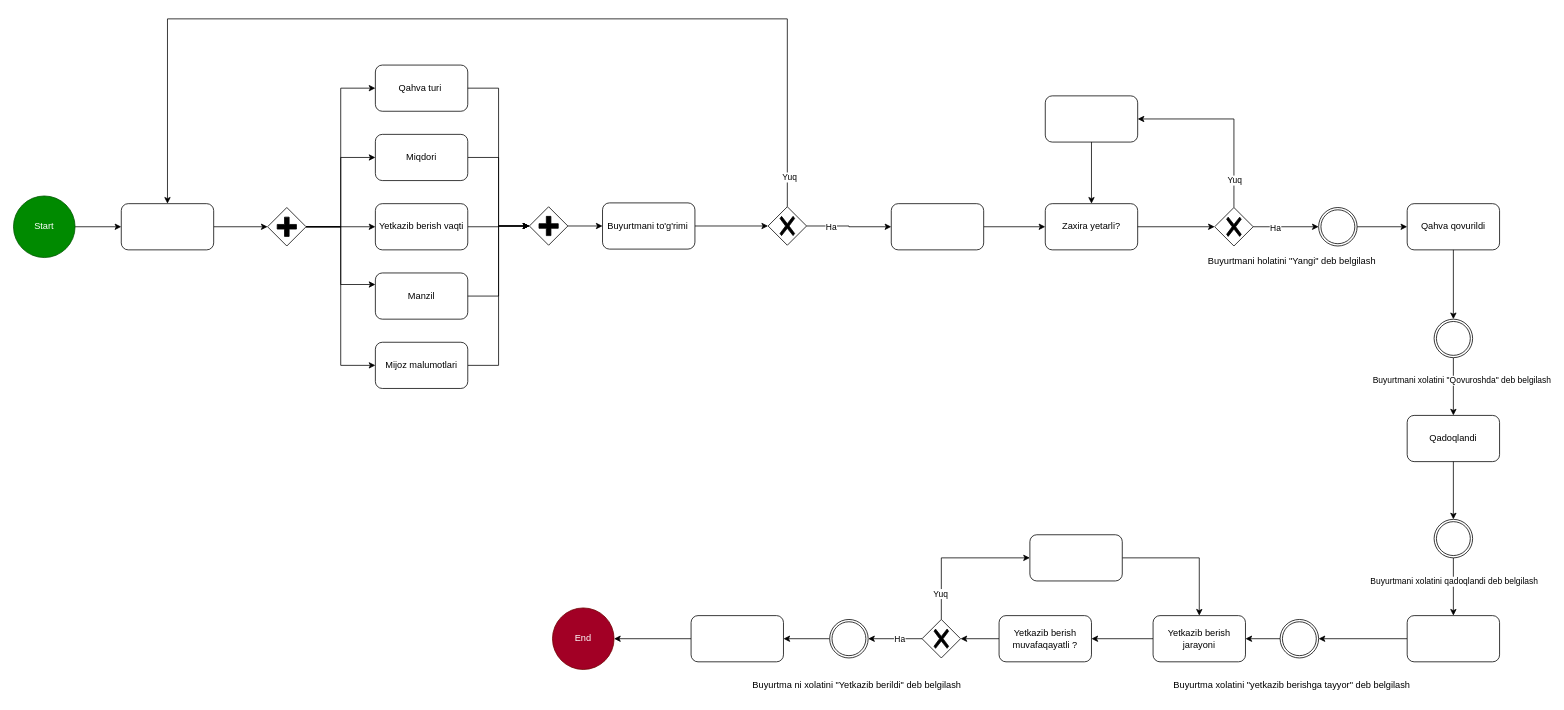
This 1564x710 diagram has some shape labels left out. Here are the shapes that lost their labels. From the top down, the centre of each, then its label:
At [1091,118]: "Zaxira buyurtma qilindi".
At [167,226]: "Web/Mobile ochish buyertma berish".
At [937,226]: "Buyurtma saqlandi".
At [1075,557]: "Qayta yetkazib berish rejalashtiriladi".
At [736,638]: "Hisobotlar tayyorlandi".
At [1453,638]: "Marshut avtomatik tuziladi".
